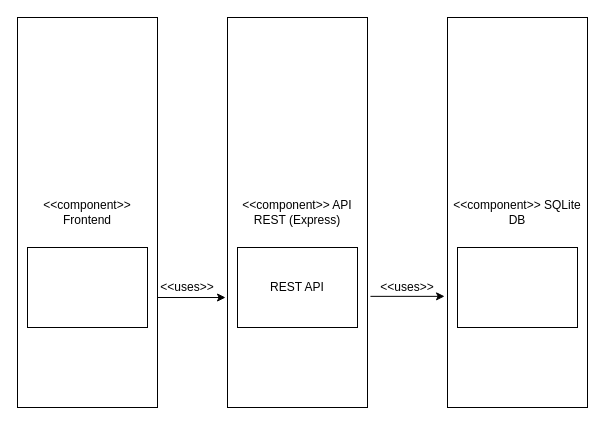
Some shapes in this 605 by 425 pixel diagram are drawn without their labels. The shapes that lost their labels are listed below. From the top down, each one's centre as x and y in pixels, then its label:
At pixel 87 287: "HTTP Client".
At pixel 517 287: "SQL Interface".
